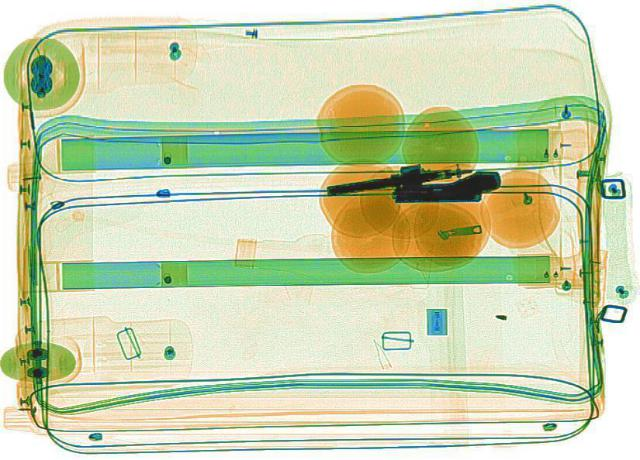Gun: (324, 161, 476, 197), (390, 169, 500, 200)
